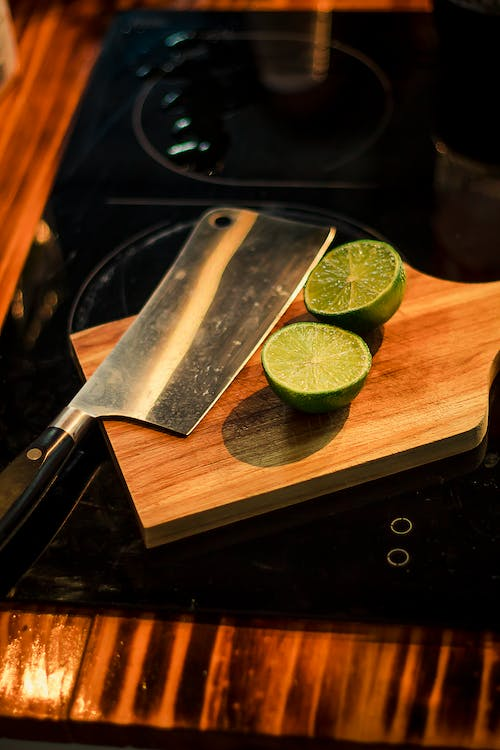knife: (0, 205, 337, 605)
